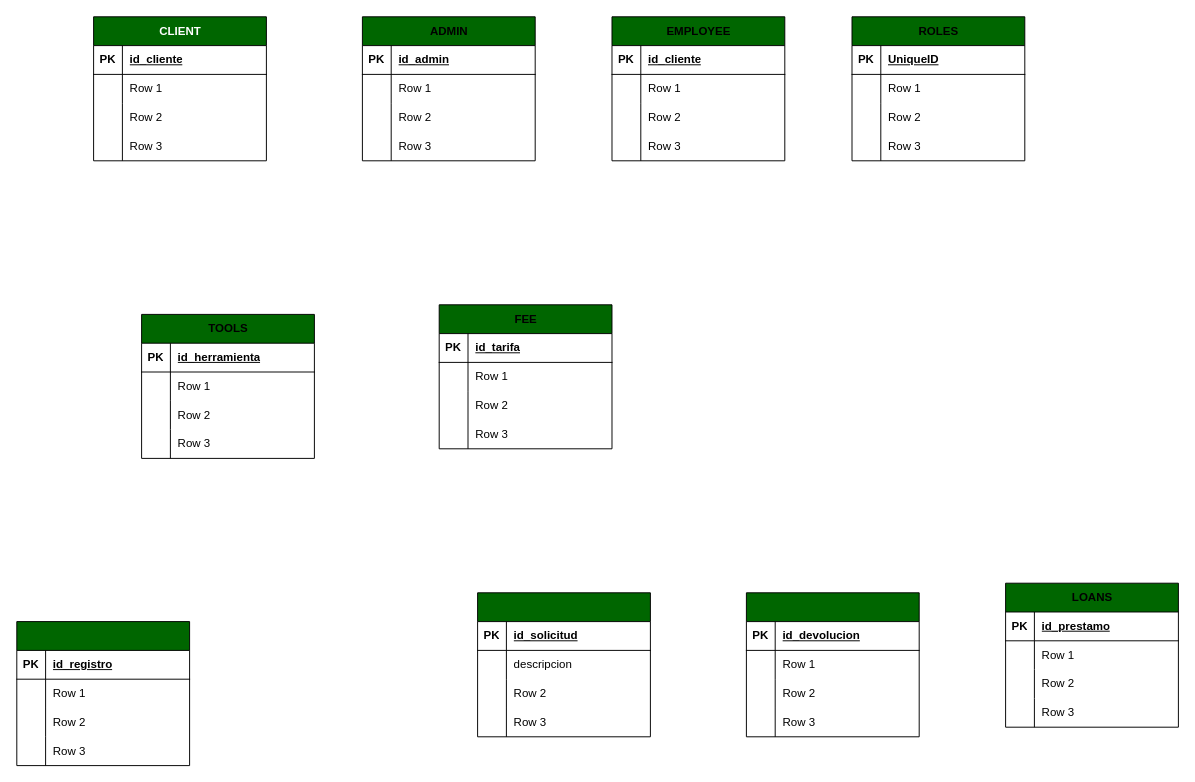
This 1195x782 diagram has some shape labels left out. Here are the shapes that lost their labels. From the top down, the box of each, then its label:
(477, 592, 650, 737): APLICATIONS
(745, 592, 919, 737): DEVOLUTIONS
(16, 621, 190, 766): RECORDS
